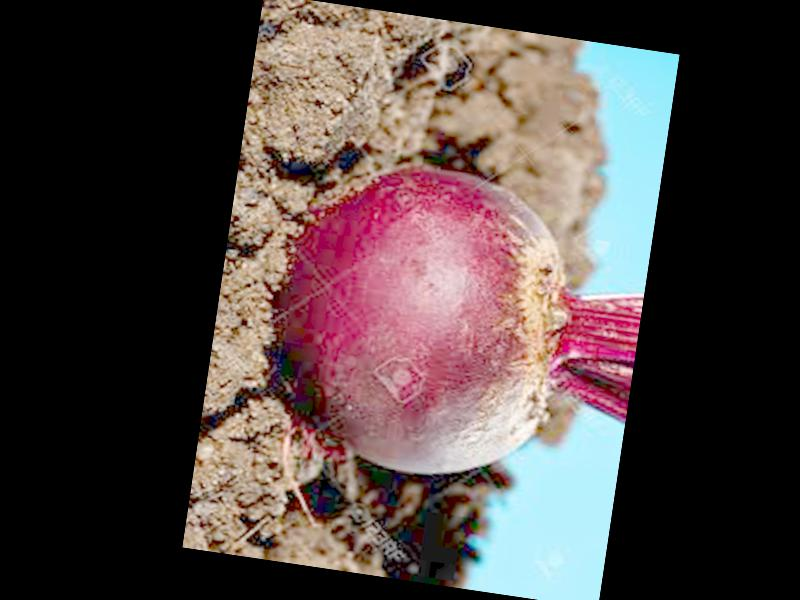Beet: (258, 149, 655, 503)
